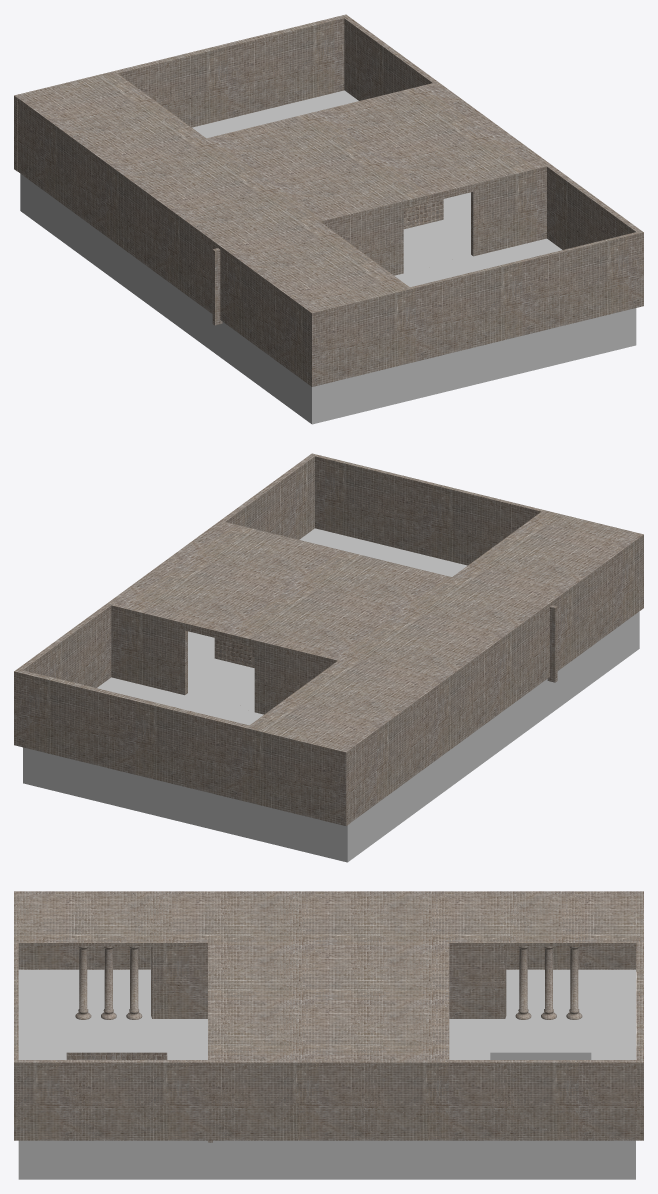
Rendered from straftat-map-5.fbx.
3 renders of one model, top to bottom at view 1: azimuth 30°, elevation 25°; view 2: azimuth 150°, elevation 25°; view 3: azimuth 270°, elevation 25°, orthographic. The views are drawn at different scales.
Visible parts, largest first — view 1: Cube.002; view 2: Cube.002; view 3: Cube.002.
Part boxes in pixels (bbox=[...]): Cube.002: bbox=[14, 14, 643, 424]; Cube.002: bbox=[14, 453, 643, 862]; Cube.002: bbox=[14, 891, 643, 1179].
Bounding box in the file's own units: 7.3 × 2.34 × 11.16.
